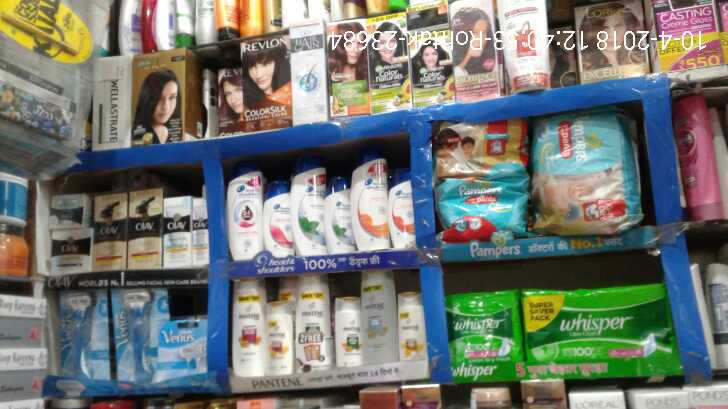venus: (59, 290, 111, 379), (113, 287, 158, 377), (160, 318, 207, 382)
